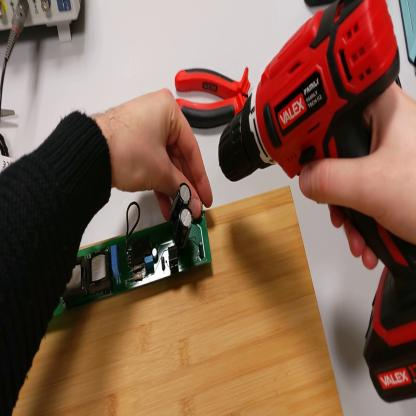electric screwdriver: (218, 3, 416, 407)
hand: (300, 70, 416, 273), (79, 87, 215, 223)
high voltage board: (51, 185, 210, 317)
oscilloscope: (2, 1, 87, 45)
oscilloscope probe tip: (2, 106, 15, 122)
pliers: (173, 65, 257, 129)
welder station: (400, 3, 416, 65)
working area: (13, 183, 343, 415)
